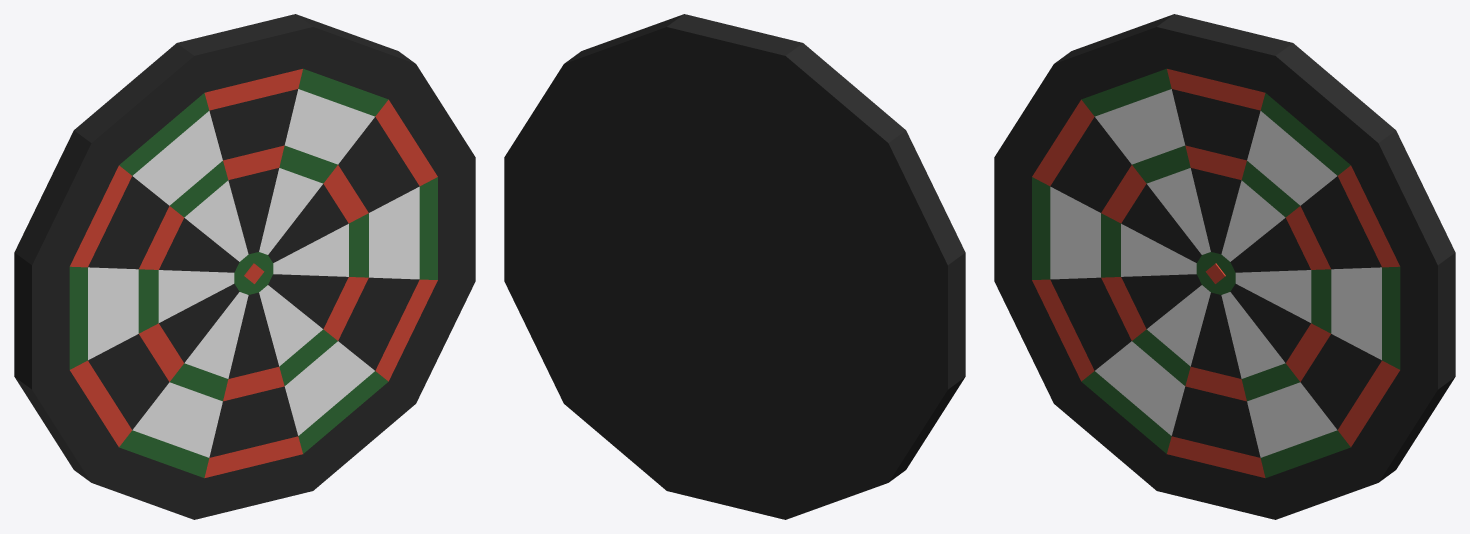
Rendered from sport_dartboard.fbx.
The picture shows the model from 3 angles, left to right: view 1: azimuth 30°, elevation 25°; view 2: azimuth 150°, elevation 25°; view 3: azimuth 330°, elevation 25°; orthographic projection.
Visible parts, largest first — view 1: sport_dartboard; view 2: sport_dartboard; view 3: sport_dartboard.
Part boxes in pixels (x1,y1,x2,y2): sport_dartboard: (14, 14, 475, 519); sport_dartboard: (504, 14, 965, 519); sport_dartboard: (994, 14, 1455, 519).
Size of the model in its own units: 200 by 200 by 14.42.
